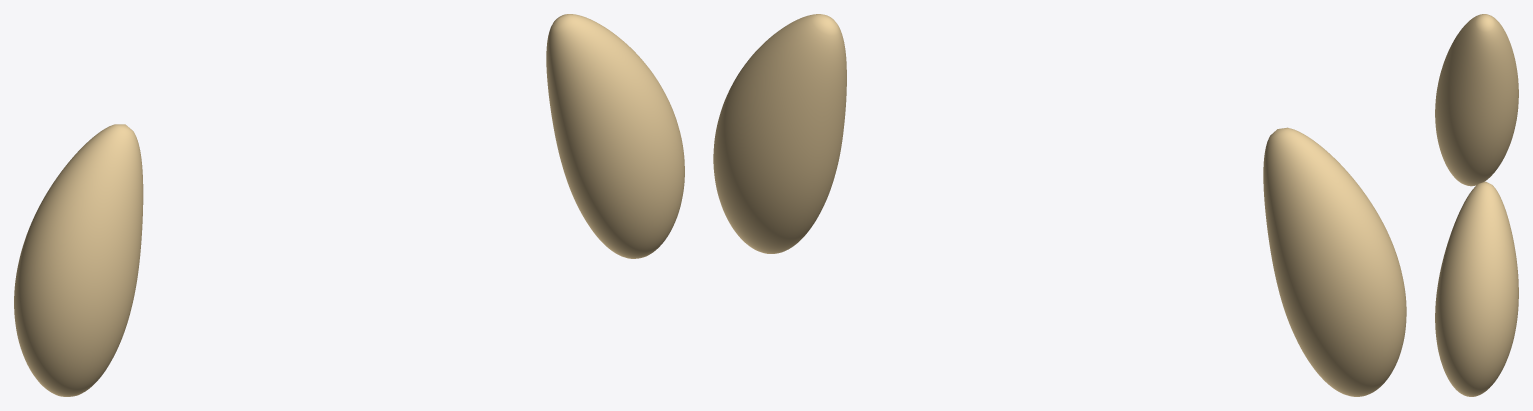
Rendered from Feminine-arms-swept.glb.
3 views of the same model, side by side, from view 1: azimuth 30°, elevation 25°; view 2: azimuth 150°, elevation 25°; view 3: azimuth 270°, elevation 25° (orthographic). The views are drawn at different scales.
Visible parts, largest first — view 1: Skin / swept arm -1, Skin / swept arm 1; view 2: Skin / swept arm -1, Skin / swept arm 1; view 3: Skin / swept arm 1, Skin / swept arm -1.
Boxes of the visible parts, bbox=[...] form: Skin / swept arm -1: bbox=[14, 124, 143, 396]; Skin / swept arm 1: bbox=[546, 14, 684, 258]; Skin / swept arm -1: bbox=[1263, 127, 1406, 396]; Skin / swept arm 1: bbox=[713, 14, 846, 253]; Skin / swept arm 1: bbox=[1435, 181, 1518, 396]; Skin / swept arm -1: bbox=[1435, 14, 1518, 186].
Bounding box in the file's own units: 1.12 × 0.4052 × 0.1622.
